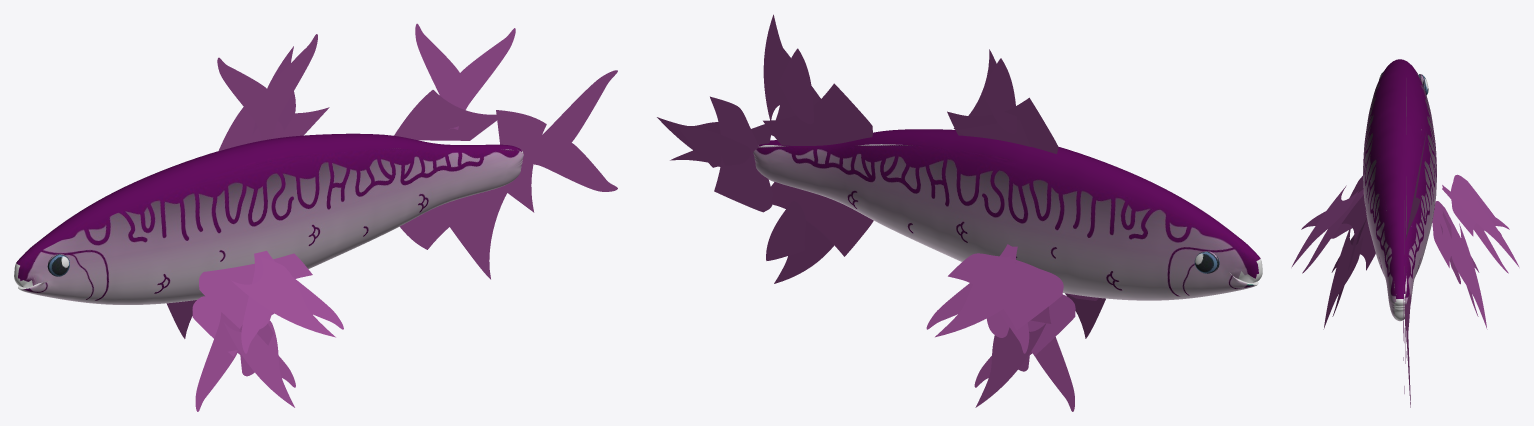
3 renders of one model, left to right at view 1: azimuth 30°, elevation 25°; view 2: azimuth 150°, elevation 25°; view 3: azimuth 270°, elevation 25°, orthographic. The views are drawn at different scales.
Visible parts, largest first — view 1: fish, pos-tail_fin-tail, pos-dorsal_fin-tail, pos-body_fin-tail, pos-anal_fin-dorsal, pos-body_fin-anal, pos-pectoral_fin-pectoral_right, pos-pectoral_fin-body_right, pos-tail_fin-anal, pos-pelvic_fin-tail_right, pos-pectoral_fin-tail_right, pos-pelvic_fin-pectoral_right (+5 smaller); view 2: fish, pos-body_fin-body, pos-tail_fin-body, pos-pectoral_fin-body, pos-anal_fin-body, pos-pectoral_fin-pectoral, pos-pelvic_fin-pectoral, pos-dorsal_fin-body, pos-pelvic_fin-tail, pos-body_fin-pelvic, pos-anal_fin-pelvic, pos-tail_fin-pelvic (+8 smaller); view 3: fish, pos-pelvic_fin-pectoral_right, pos-pelvic_fin-pectoral, pos-pelvic_fin-body, pos-pectoral_fin-body, pos-pectoral_fin-pectoral, pos-pectoral_fin-pectoral_right, pos-pectoral_fin-tail_right, pos-pectoral_fin-body_right, pos-pectoral_fin-tail, pos-pelvic_fin-body_right, pos-body_fin-tail (+1 smaller).
Part boxes in pixels (x1,y1,x2,y2): fish: (14,133,523,304); pos-tail_fin-tail: (521,70,617,191); pos-dorsal_fin-tail: (217,34,317,140); pos-body_fin-tail: (415,23,515,129); pos-anal_fin-dorsal: (436,181,514,279); pos-body_fin-anal: (394,90,496,140); pos-pectoral_fin-pectoral_right: (231,256,335,337); pos-pectoral_fin-body_right: (199,253,312,328); pos-tail_fin-anal: (496,110,546,212); pos-pelvic_fin-tail_right: (195,312,295,411); pos-pectoral_fin-tail_right: (241,250,343,353); pos-pelvic_fin-pectoral_right: (224,320,294,407); fish: (753,129,1262,300); pos-body_fin-body: (763,83,872,145); pos-tail_fin-body: (710,96,772,212); pos-pectoral_fin-body: (948,253,1063,329); pos-anal_fin-body: (769,182,873,256); pos-pectoral_fin-pectoral: (935,256,1038,337); pos-pelvic_fin-pectoral: (975,323,1046,407); pos-dorsal_fin-body: (947,97,1058,153); pos-pelvic_fin-tail: (974,306,1074,411); pos-body_fin-pelvic: (778,48,813,124); pos-anal_fin-pelvic: (766,201,805,260); pos-tail_fin-pelvic: (681,128,750,167); fish: (1363,59,1436,321); pos-pelvic_fin-pectoral_right: (1323,229,1363,329); pos-pelvic_fin-pectoral: (1447,223,1487,329); pos-pelvic_fin-body: (1432,201,1460,267); pos-pectoral_fin-body: (1451,174,1497,236); pos-pectoral_fin-pectoral: (1452,185,1519,267); pos-pectoral_fin-pectoral_right: (1291,185,1358,267); pos-pectoral_fin-tail_right: (1301,189,1363,273); pos-pectoral_fin-body_right: (1341,176,1366,239); pos-pectoral_fin-tail: (1442,185,1509,273); pos-pelvic_fin-body_right: (1358,219,1375,270); pos-body_fin-tail: (1405,133,1426,240).
Bounding box in the file's own units: 1319 × 673 × 463.
3 materials, 2 textured.
